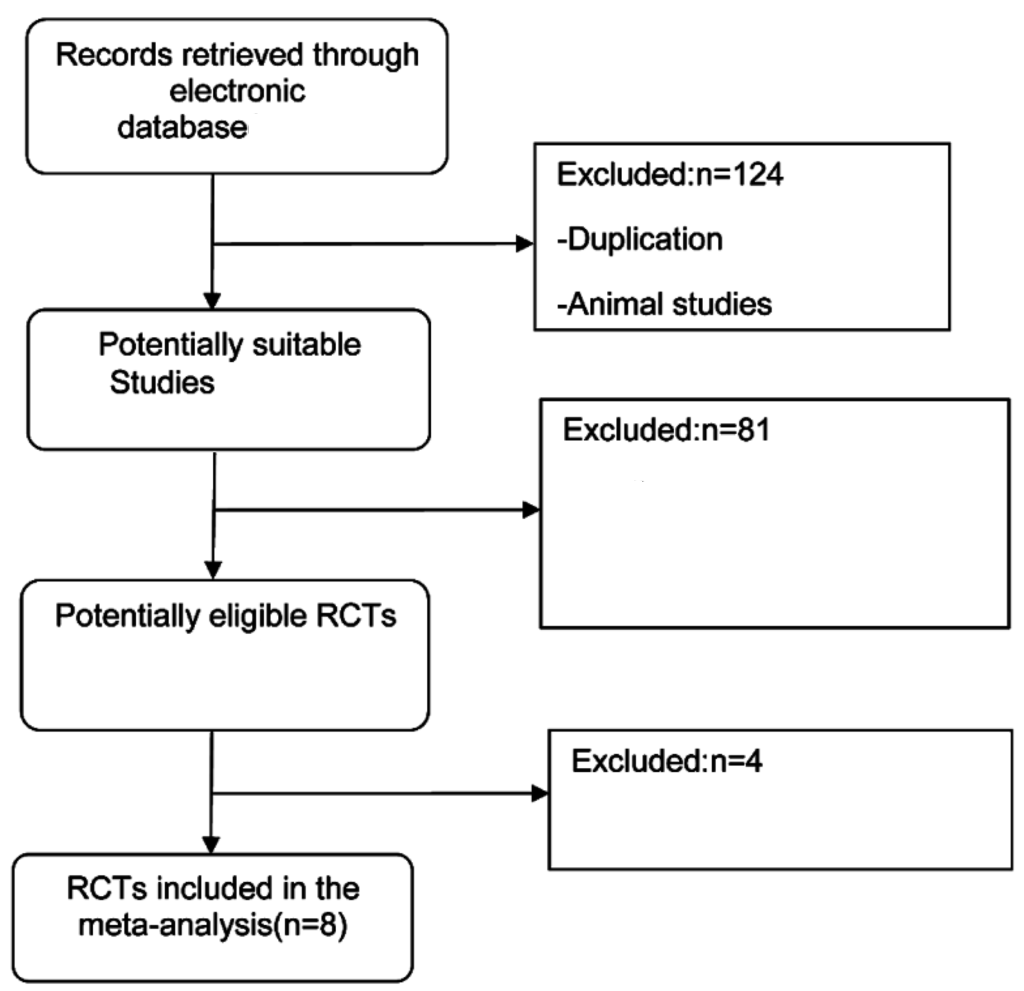arrow: (208, 782, 551, 805), (208, 231, 537, 254), (211, 498, 543, 520), (199, 172, 225, 314), (199, 728, 225, 858), (202, 445, 226, 582)
process: (532, 390, 1014, 637), (529, 134, 955, 335), (544, 722, 1020, 876), (17, 13, 458, 179), (13, 575, 434, 735), (20, 305, 438, 454), (7, 849, 417, 985)
text: (52, 37, 426, 143), (554, 157, 793, 320), (63, 872, 364, 943), (94, 326, 370, 398), (52, 596, 401, 637), (561, 410, 772, 446), (570, 743, 767, 776)
